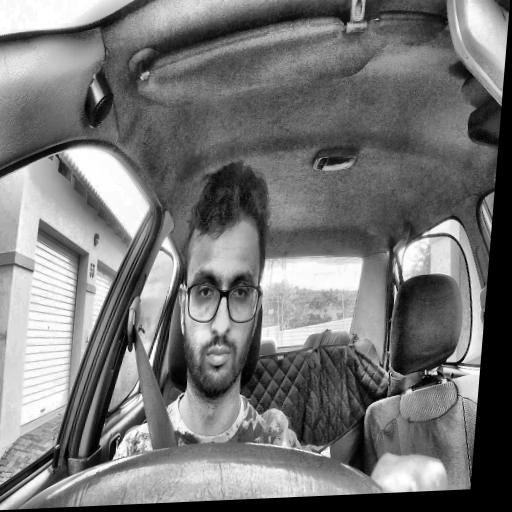awake: (169, 158, 275, 402)
